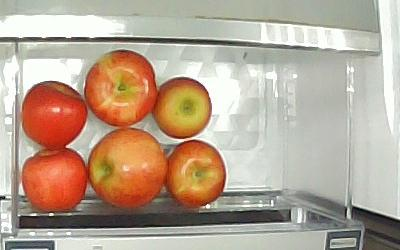apple: (86, 128, 168, 209), (86, 49, 158, 129), (21, 80, 88, 151), (20, 148, 86, 213), (166, 140, 226, 209), (151, 77, 213, 139)
